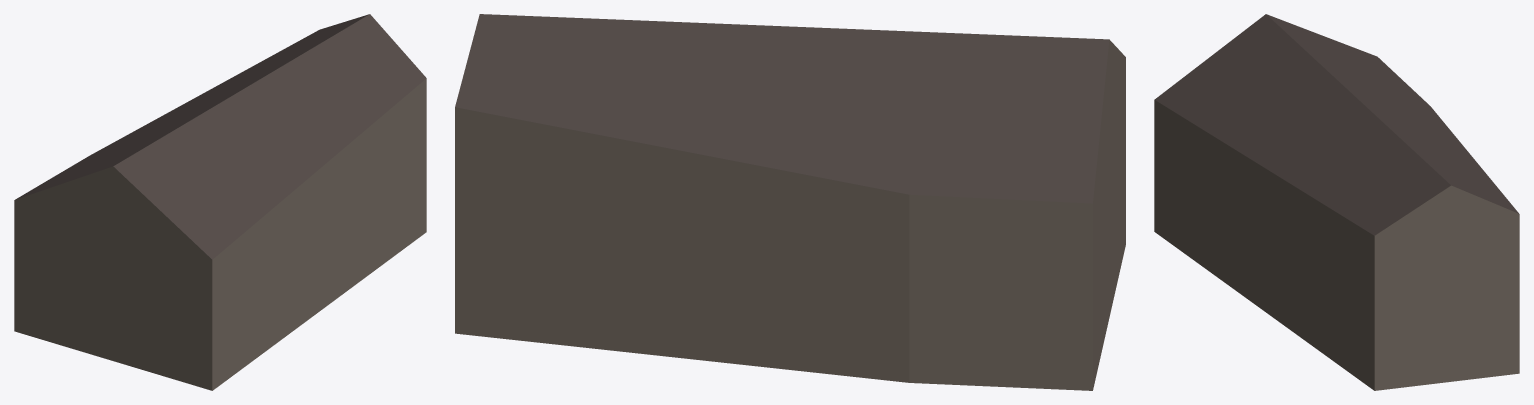
The picture shows the model from 3 angles, left to right: view 1: azimuth 30°, elevation 25°; view 2: azimuth 150°, elevation 25°; view 3: azimuth 270°, elevation 25°; orthographic projection. The views are drawn at different scales.
Parts seen in each view (by area): view 1: HP-w1198847856; view 2: HP-w1198847856; view 3: HP-w1198847856.
Boxes of the visible parts, x1,y1,x2,y2 form: HP-w1198847856: (14,14,426,390); HP-w1198847856: (455,14,1125,390); HP-w1198847856: (1154,14,1519,390).
Size of the model in its own units: 19.69 by 8.91 by 15.02.
